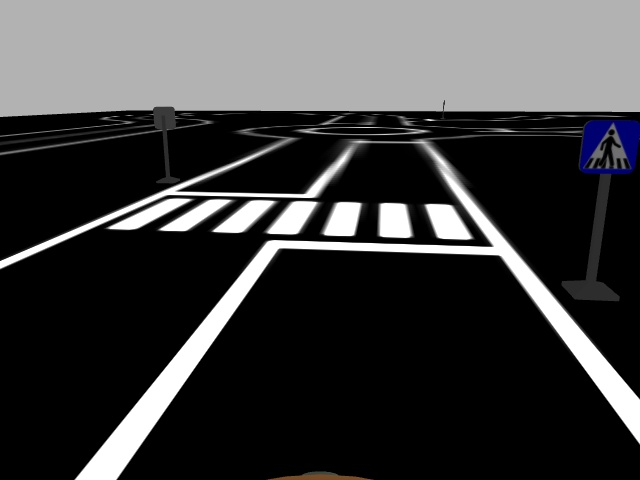crosswalk: (577, 118, 640, 178)
